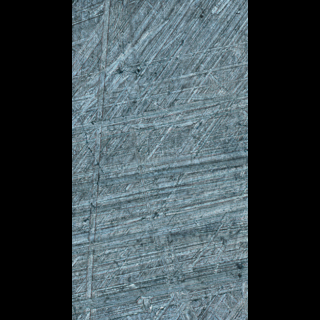d: (109, 0, 201, 319), (71, 88, 247, 162), (76, 0, 114, 320)
